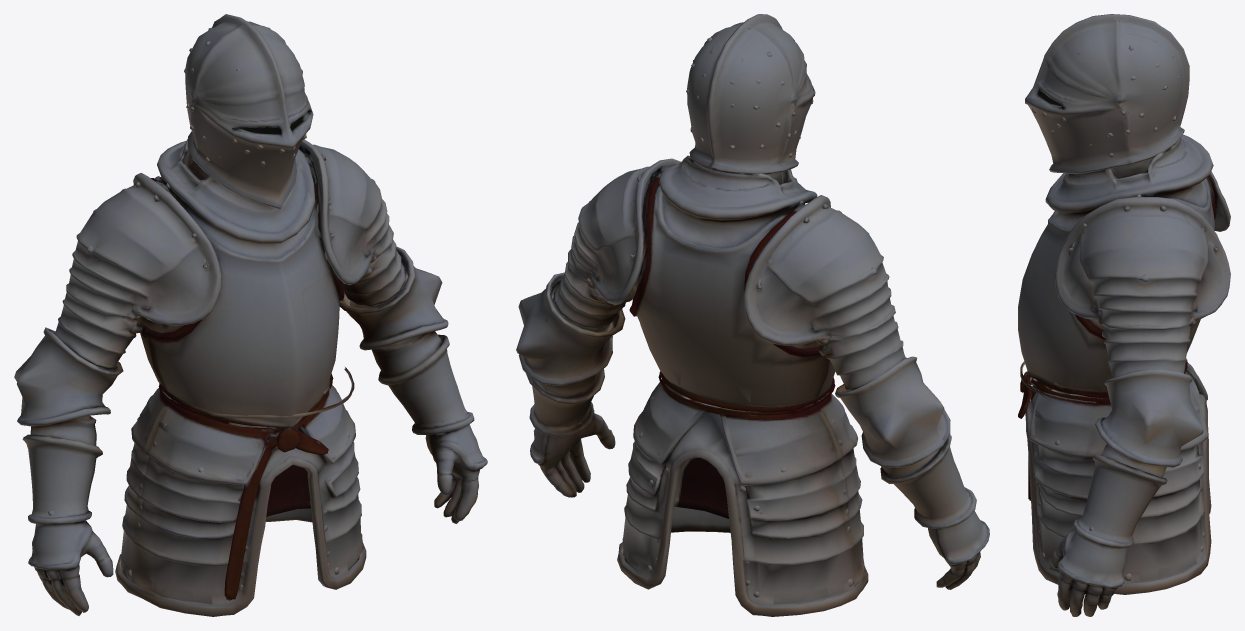
The model's file is armadura_medieval_3d_modelo_Clone1_1.fbx.
The picture shows the model from 3 angles, left to right: view 1: azimuth 30°, elevation 25°; view 2: azimuth 150°, elevation 25°; view 3: azimuth 270°, elevation 25°; orthographic projection. The views are drawn at different scales.
Visible parts, largest first — view 1: tripo_node_b92fd368; view 2: tripo_node_b92fd368; view 3: tripo_node_b92fd368.
Boxes of the visible parts, x1,y1,x2,y2 form: tripo_node_b92fd368: (14,14,487,616); tripo_node_b92fd368: (516,14,989,616); tripo_node_b92fd368: (1018,14,1230,616).
Size of the model in its own units: 0.8474 by 1 by 0.362.
